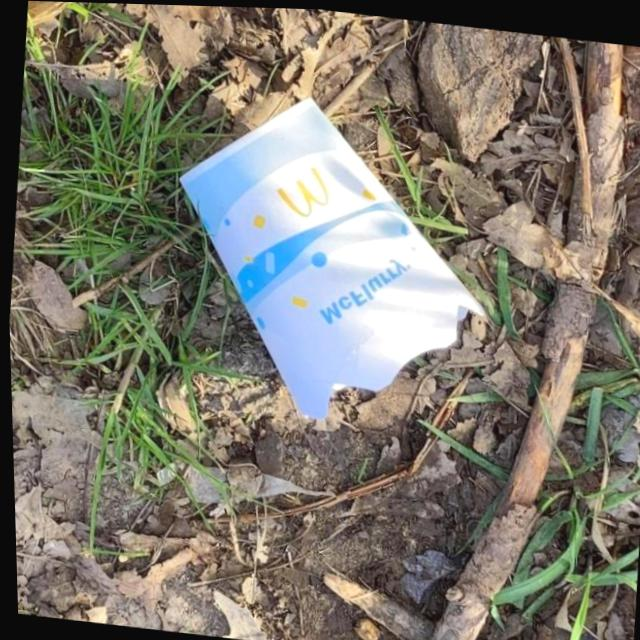Paper: (148, 75, 505, 438)
